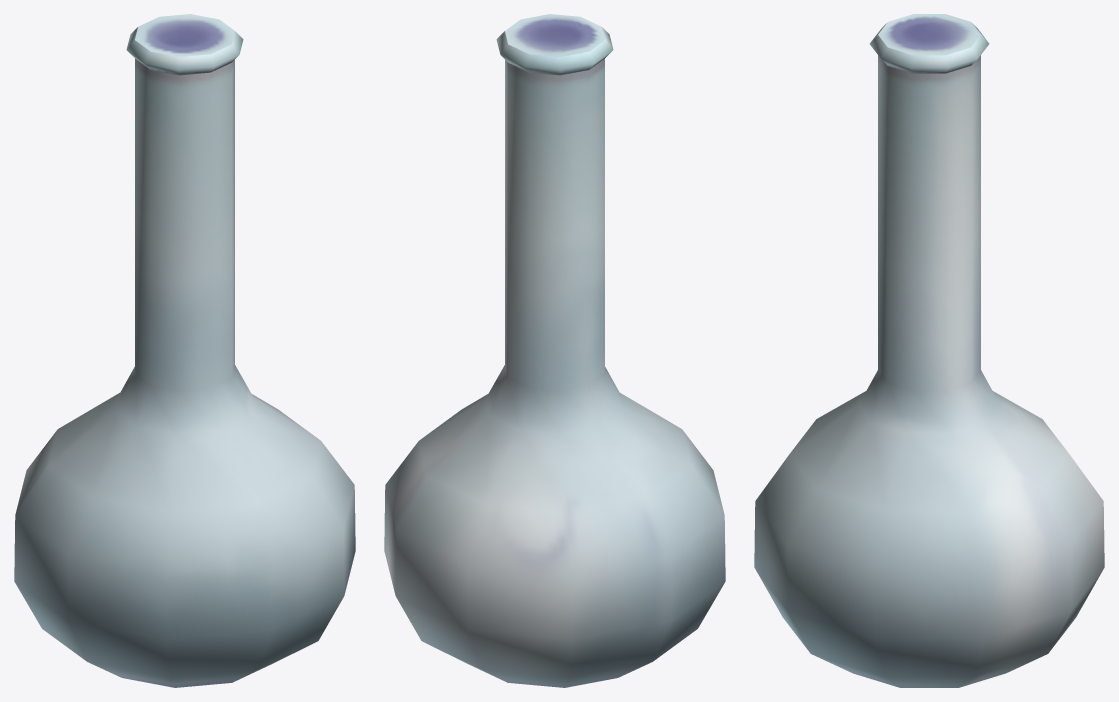
File: Probeta 1.fbx
3 views of the same model, side by side, from view 1: azimuth 30°, elevation 25°; view 2: azimuth 150°, elevation 25°; view 3: azimuth 270°, elevation 25° (orthographic).
Visible parts, largest first — view 1: probeta 1; view 2: probeta 1; view 3: probeta 1.
Part boxes in pixels (<box>): probeta 1: <box>14,14,355,687</box>; probeta 1: <box>384,14,725,687</box>; probeta 1: <box>754,14,1104,687</box>.
Size of the model in its own units: 23.51 by 47.89 by 24.72.
